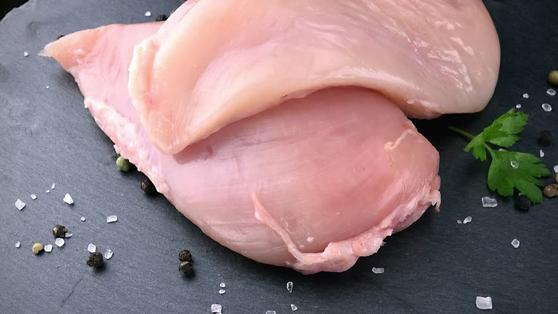chicken_fillet: (133, 1, 500, 129)
